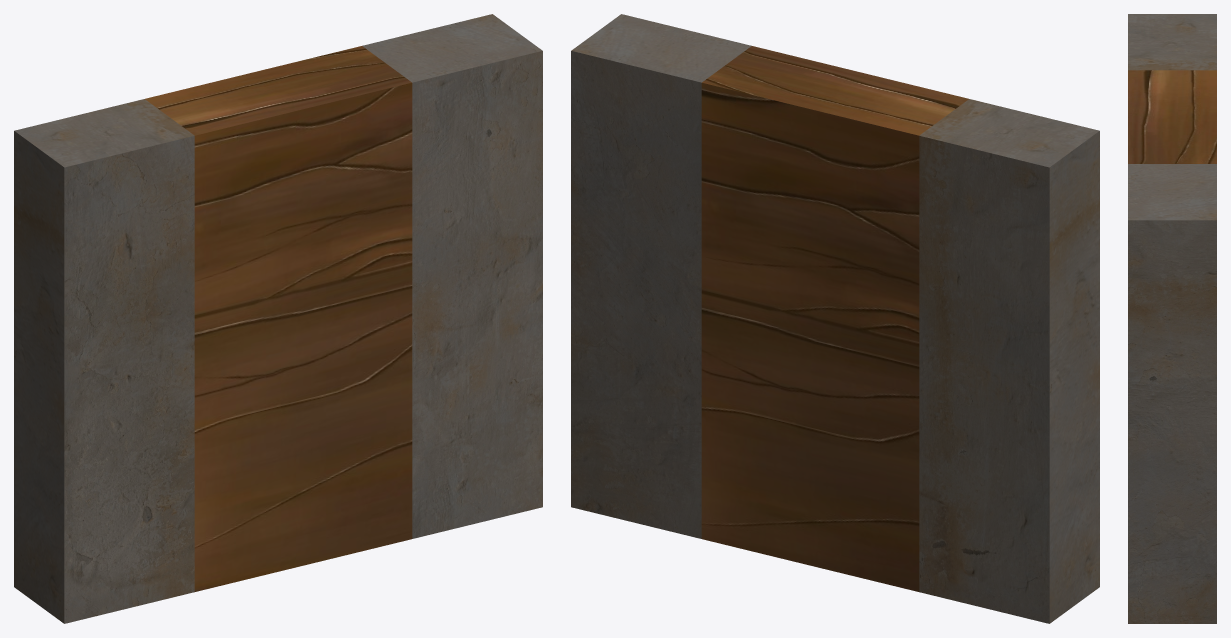
The model's file is longconcrete_v2.fbx.
3 renders of one model, left to right at view 1: azimuth 30°, elevation 25°; view 2: azimuth 150°, elevation 25°; view 3: azimuth 270°, elevation 25°, orthographic. The views are drawn at different scales.
Visible parts, largest first — view 1: longconcrete; view 2: longconcrete; view 3: longconcrete.
Boxes of the visible parts, <box> form: longconcrete: <box>14,14,542,623</box>; longconcrete: <box>571,14,1099,623</box>; longconcrete: <box>1128,14,1216,623</box>.
Bounding box in the file's own units: 110 × 100 × 20.01.
